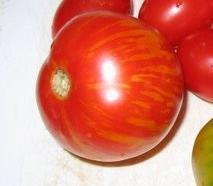tomato: (34, 10, 185, 162)
